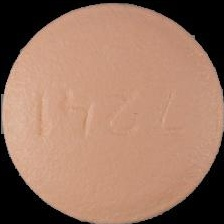67046-643: (0, 0, 224, 224)
